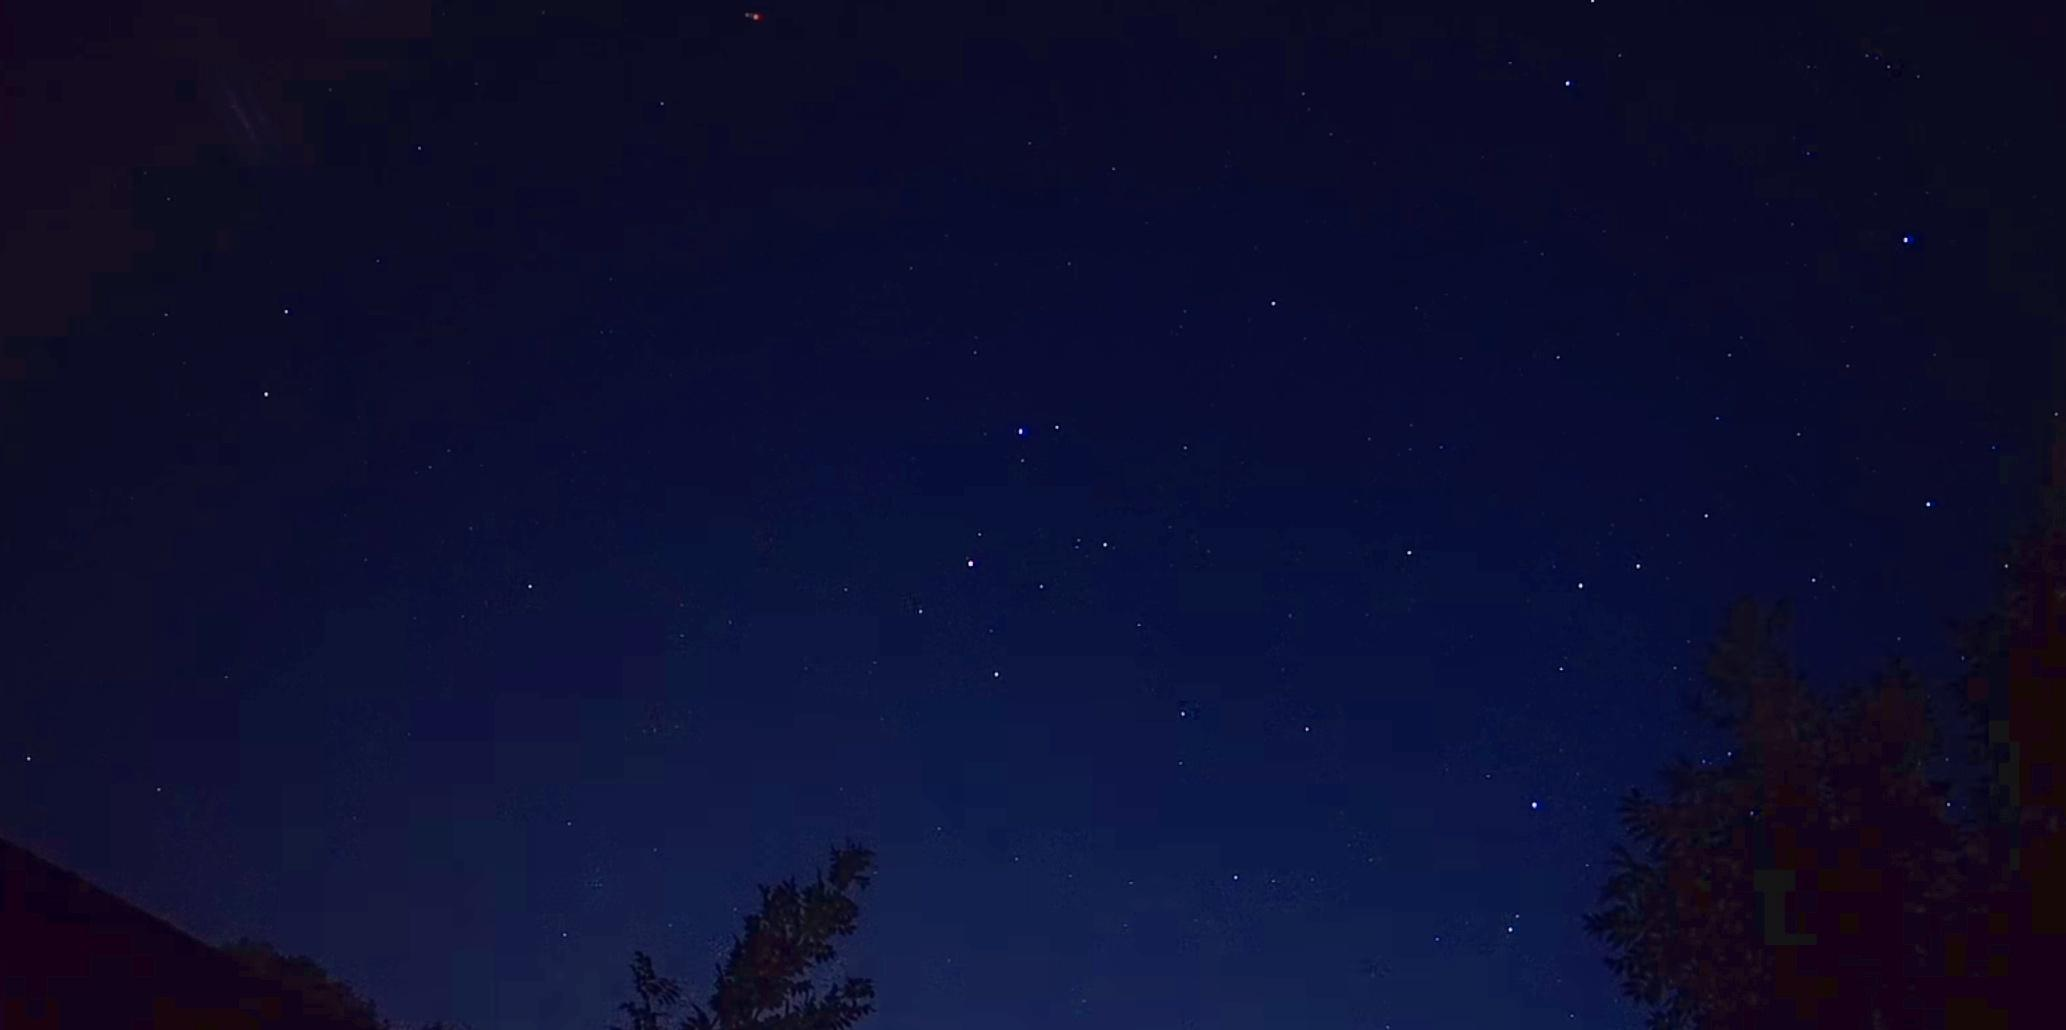Plane: (718, 3, 791, 28)
